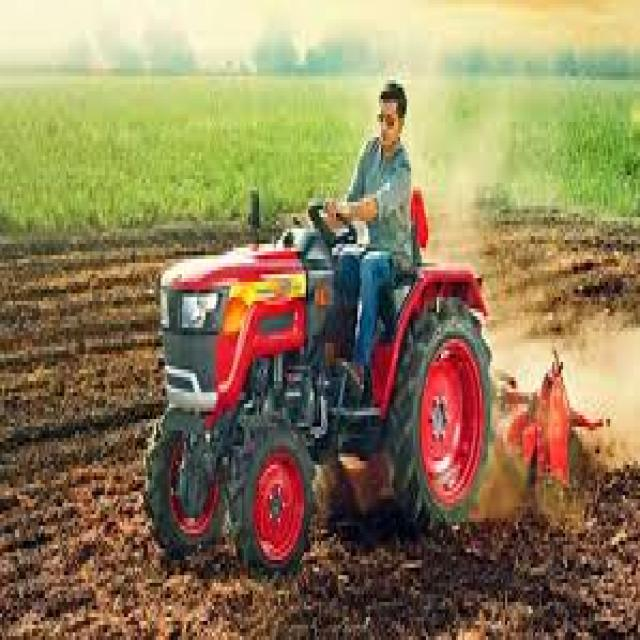person: (325, 80, 411, 389)
tractor: (148, 206, 599, 571)
